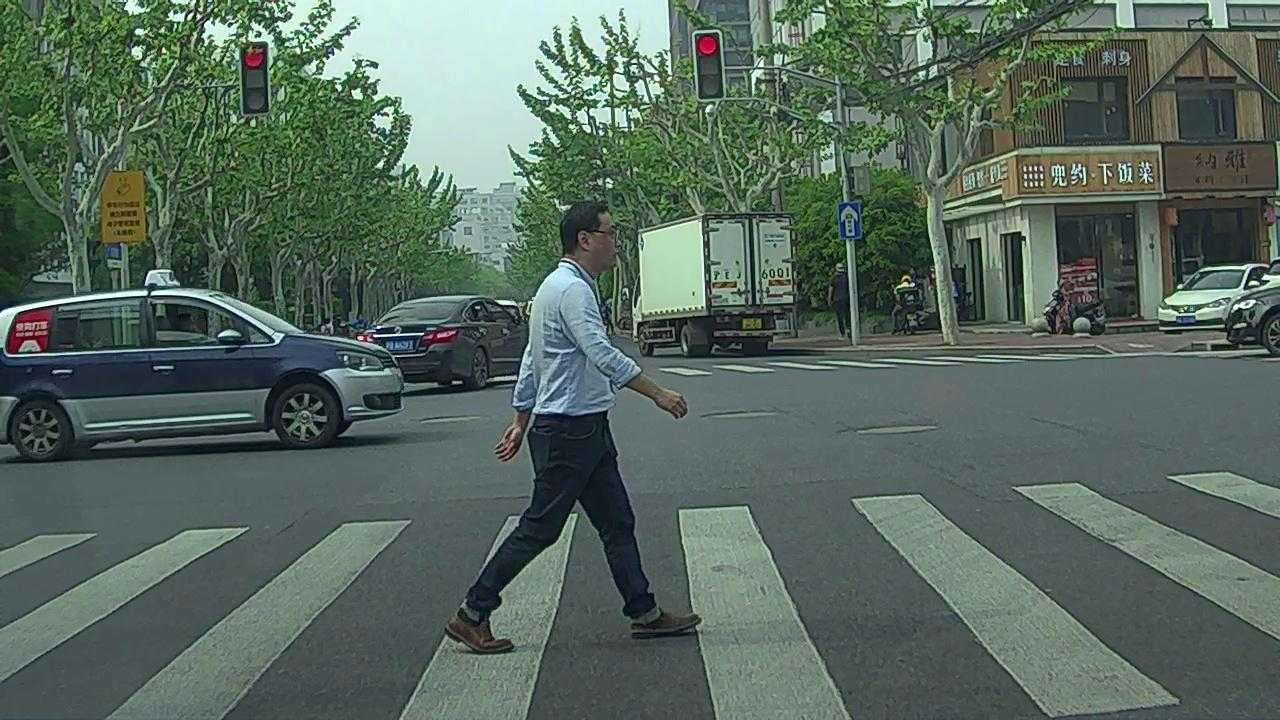traffic_light: (696, 28, 724, 102), (243, 41, 266, 113)
